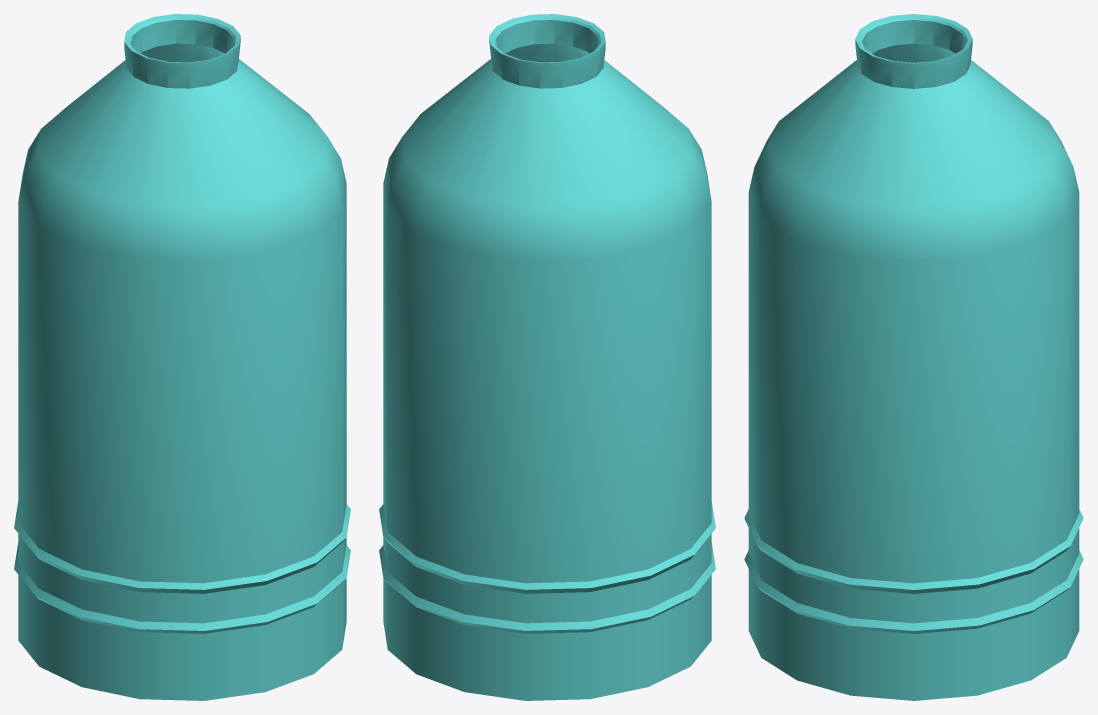
File: Plastic_flesje.fbx
The picture shows the model from 3 angles, left to right: view 1: azimuth 30°, elevation 25°; view 2: azimuth 150°, elevation 25°; view 3: azimuth 270°, elevation 25°; orthographic projection.
Visible parts, largest first — view 1: Circle; view 2: Circle; view 3: Circle.
Boxes of the visible parts, left/top/right/bottom form: Circle: left=14, top=14, right=350, bottom=700; Circle: left=379, top=14, right=715, bottom=700; Circle: left=744, top=14, right=1083, bottom=700.
Bounding box in the file's own units: 224 × 431 × 224.
